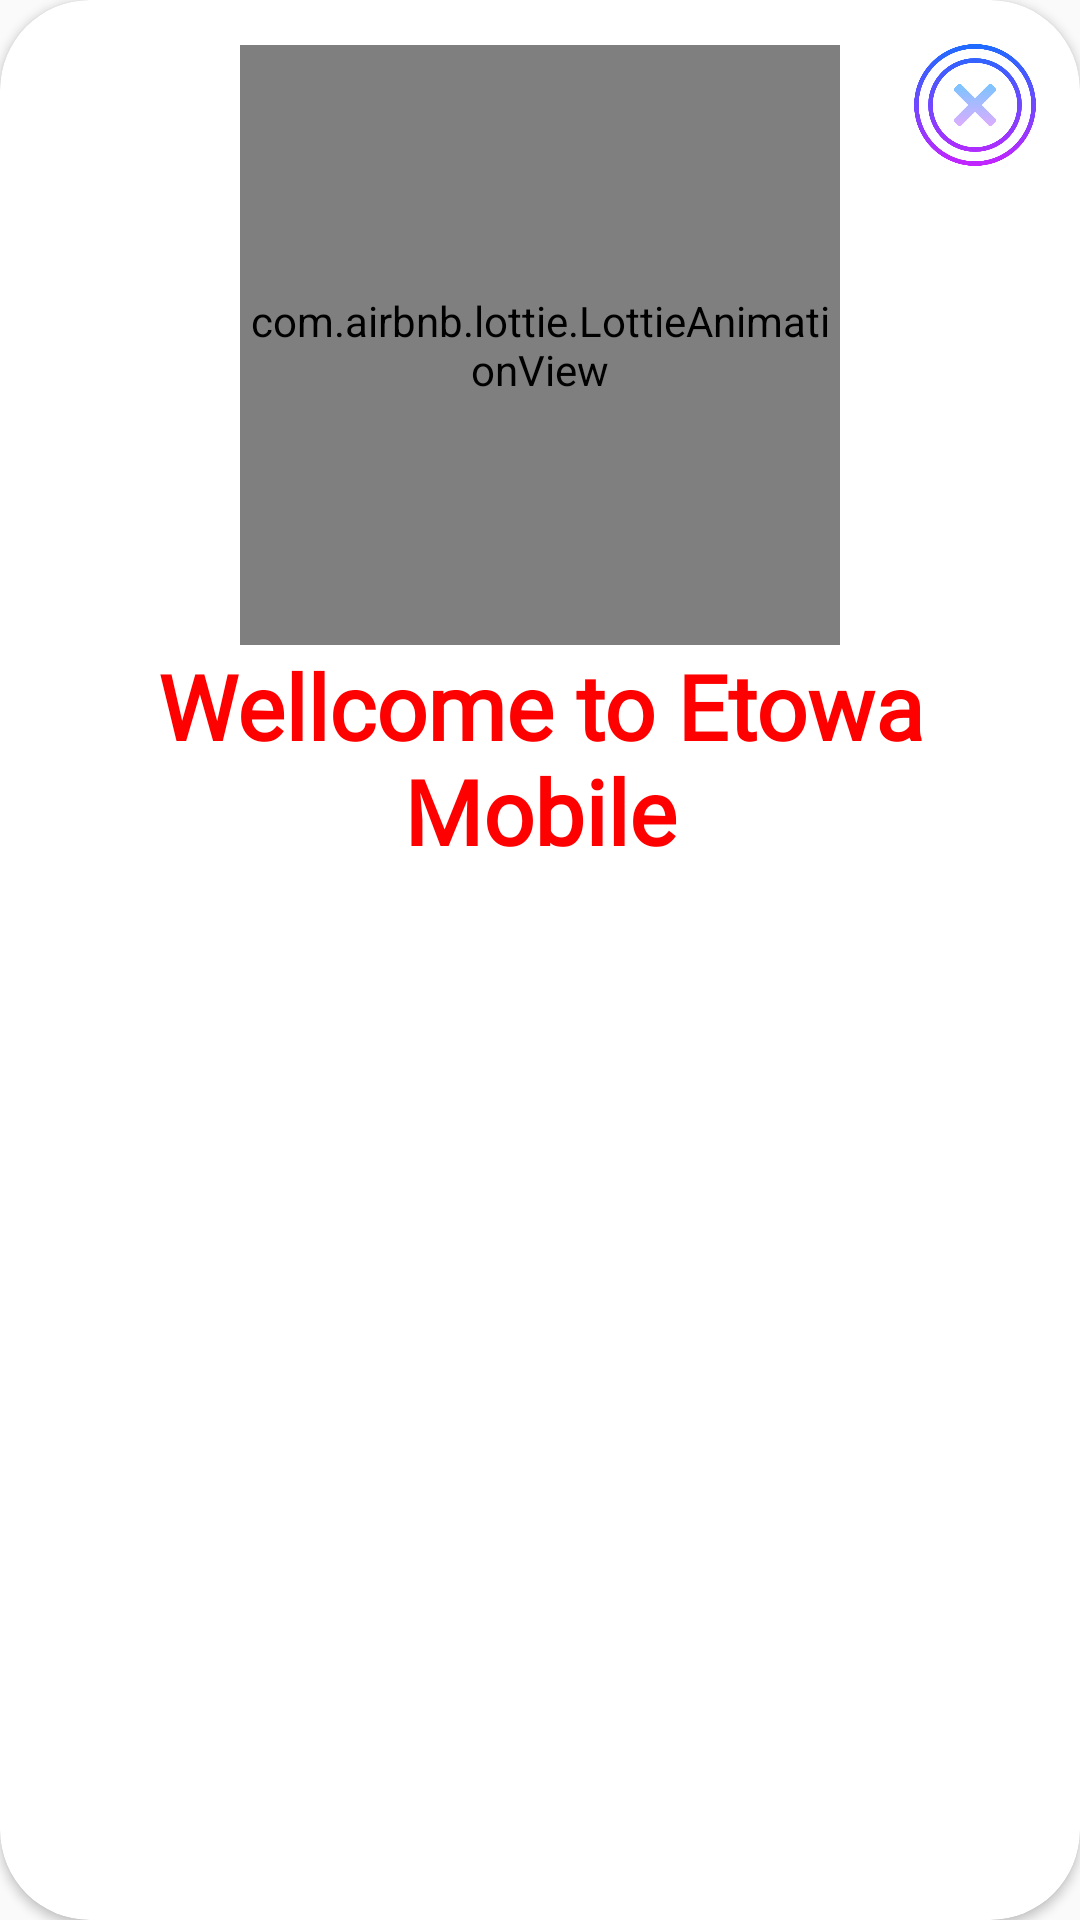

Icon bounding boxes for this 1080px×1920px phone screenshot, format (x1, y1, x2, y2):
cencel: (914, 44, 1036, 166)
